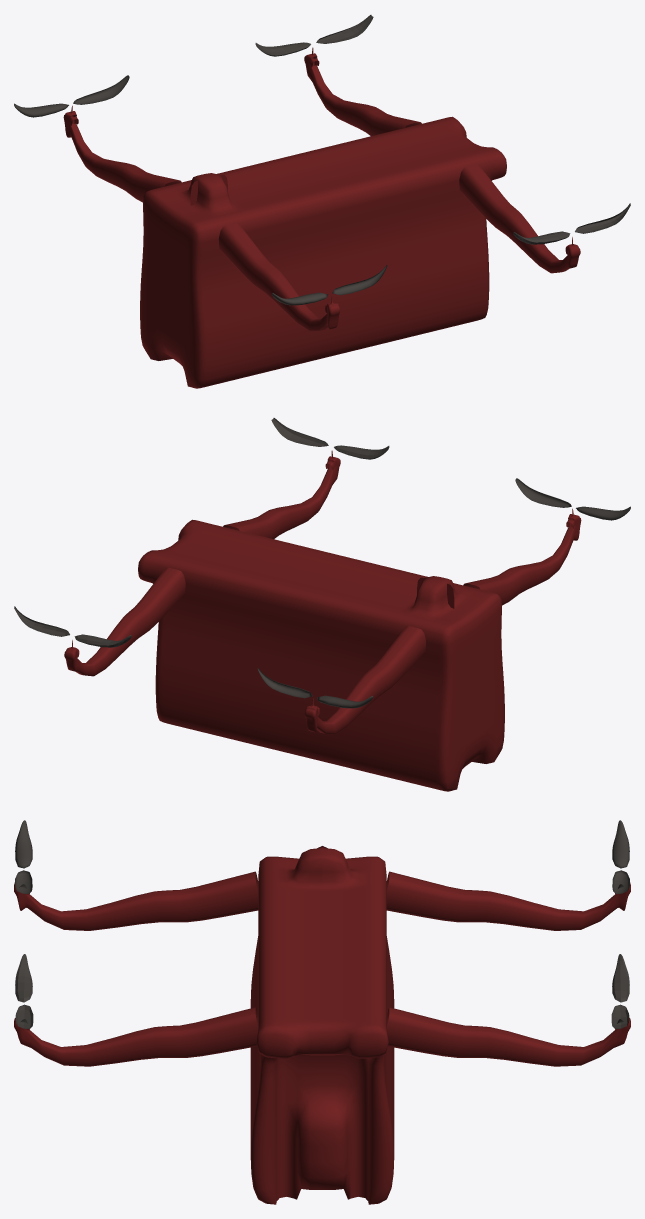
The model's file is chicha.fbx.
3 renders of one model, top to bottom at view 1: azimuth 30°, elevation 25°; view 2: azimuth 150°, elevation 25°; view 3: azimuth 270°, elevation 25°, orthographic. The views are drawn at different scales.
Visible parts, largest first — view 1: Cube.003; view 2: Cube.003; view 3: Cube.003.
Boxes of the visible parts, x1,y1,x2,y2 form: Cube.003: (14,15,630,388); Cube.003: (14,418,630,791); Cube.003: (14,820,630,1204).
Bounding box in the file's own units: 100 × 49.94 × 129.
